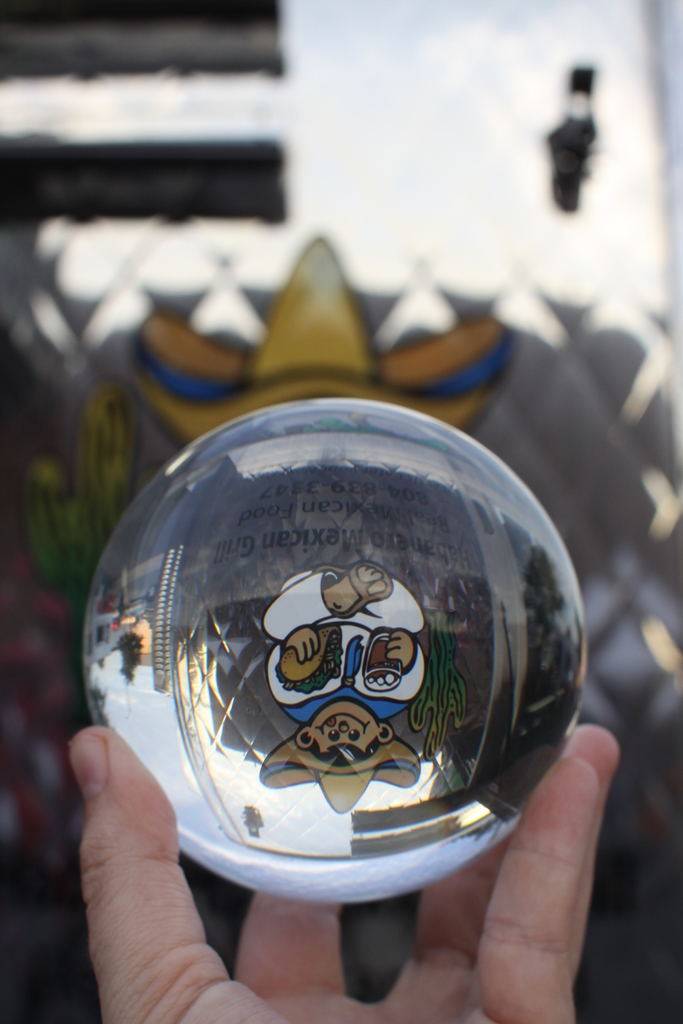Ball: (88, 402, 588, 902)
